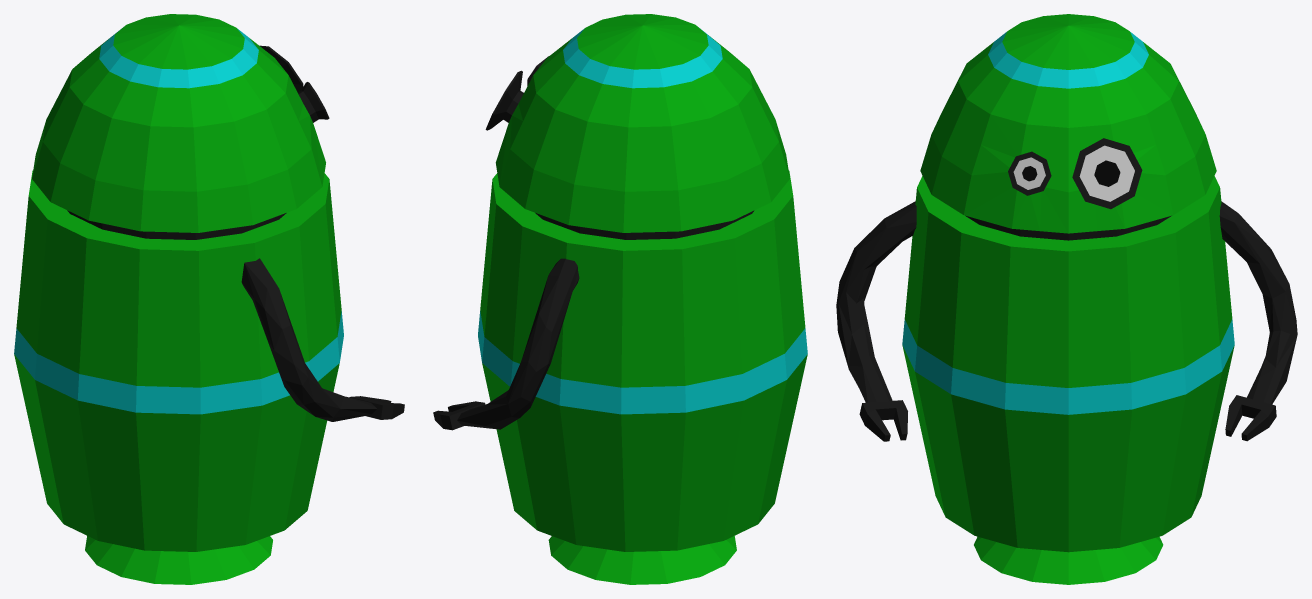
Rendered from greenBot.dae.
3 views of the same model, side by side, from view 1: azimuth 30°, elevation 25°; view 2: azimuth 150°, elevation 25°; view 3: azimuth 270°, elevation 25° (orthographic).
Visible parts, largest first — view 1: Cylinder, Circle_002, Cube_001; view 2: Cylinder, Circle_001, Cube; view 3: Cylinder, Circle_002, Circle_001, Cube, Cube_001.
Boxes of the visible parts, x1,y1,x2,y2 form: Cylinder: [14, 14, 343, 584]; Circle_002: [241, 258, 376, 421]; Cube_001: [349, 396, 404, 419]; Cylinder: [478, 14, 807, 584]; Circle_001: [457, 258, 579, 429]; Cube: [433, 401, 485, 430]; Cylinder: [902, 14, 1234, 584]; Circle_002: [836, 201, 916, 402]; Circle_001: [1219, 201, 1297, 404]; Cube: [1225, 395, 1276, 441]; Cube_001: [859, 400, 907, 441].
Size of the model in its own units: 2 by 3.45 by 2.77.
